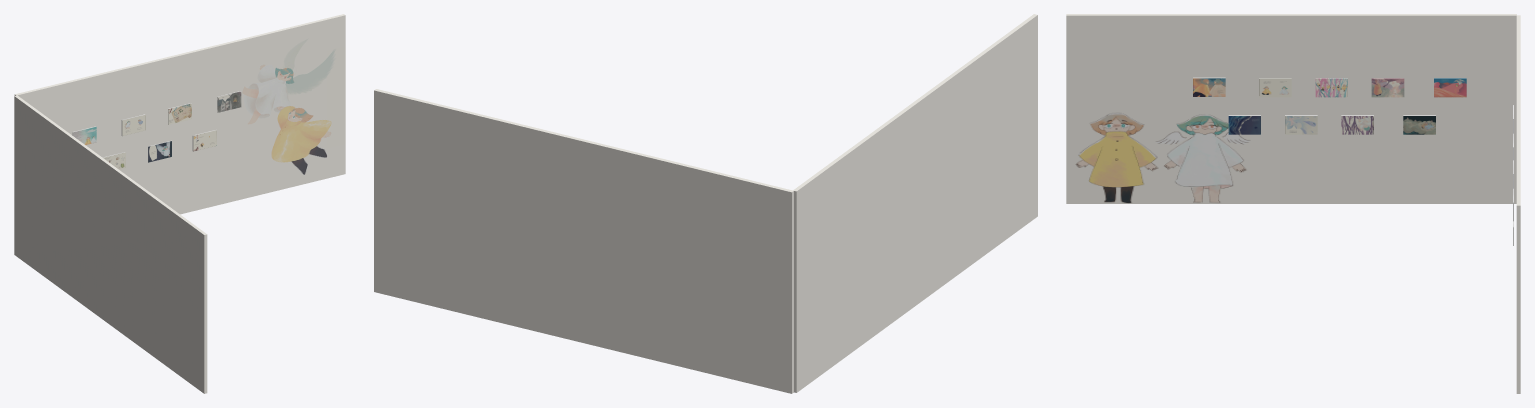
File: Chenyu_work (1).fbx
3 renders of one model, left to right at view 1: azimuth 30°, elevation 25°; view 2: azimuth 150°, elevation 25°; view 3: azimuth 270°, elevation 25°, orthographic. The views are drawn at different scales.
Parts seen in each view (by area): view 1: pCube1, pCube36, pCube22, pCube26, pCube35, pCube24, pCube23, pCube8; view 2: pCube1, pCube36; view 3: pCube36, pCube1, pCube31, pCube30, pCube25, pCube28, pCube27, pCube34, pCube33, pCube32, pCube29.
Boxes of the visible parts, <box> form: pCube1: <box>14,14,345,214</box>; pCube36: <box>14,95,207,393</box>; pCube22: <box>121,114,145,136</box>; pCube26: <box>217,91,241,112</box>; pCube35: <box>192,129,216,151</box>; pCube24: <box>168,103,191,124</box>; pCube23: <box>148,140,171,162</box>; pCube8: <box>72,126,96,144</box>; pCube1: <box>374,89,793,393</box>; pCube36: <box>793,14,1037,392</box>; pCube36: <box>1066,14,1516,203</box>; pCube1: <box>1516,15,1520,393</box>; pCube31: <box>1371,78,1404,97</box>; pCube30: <box>1285,115,1317,134</box>; pCube25: <box>1193,77,1225,96</box>; pCube28: <box>1228,115,1260,134</box>; pCube27: <box>1259,78,1291,97</box>; pCube34: <box>1403,115,1435,134</box>; pCube33: <box>1434,78,1466,97</box>; pCube32: <box>1341,115,1373,134</box>; pCube29: <box>1315,78,1347,97</box>.
Size of the model in its own units: 655 by 300 by 657.
3 materials, 3 textured.
